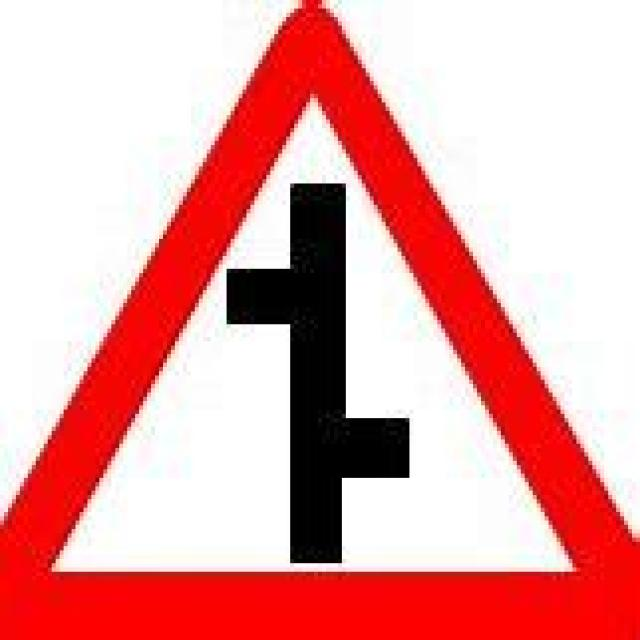speed_limit_60: (0, 0, 636, 636)
